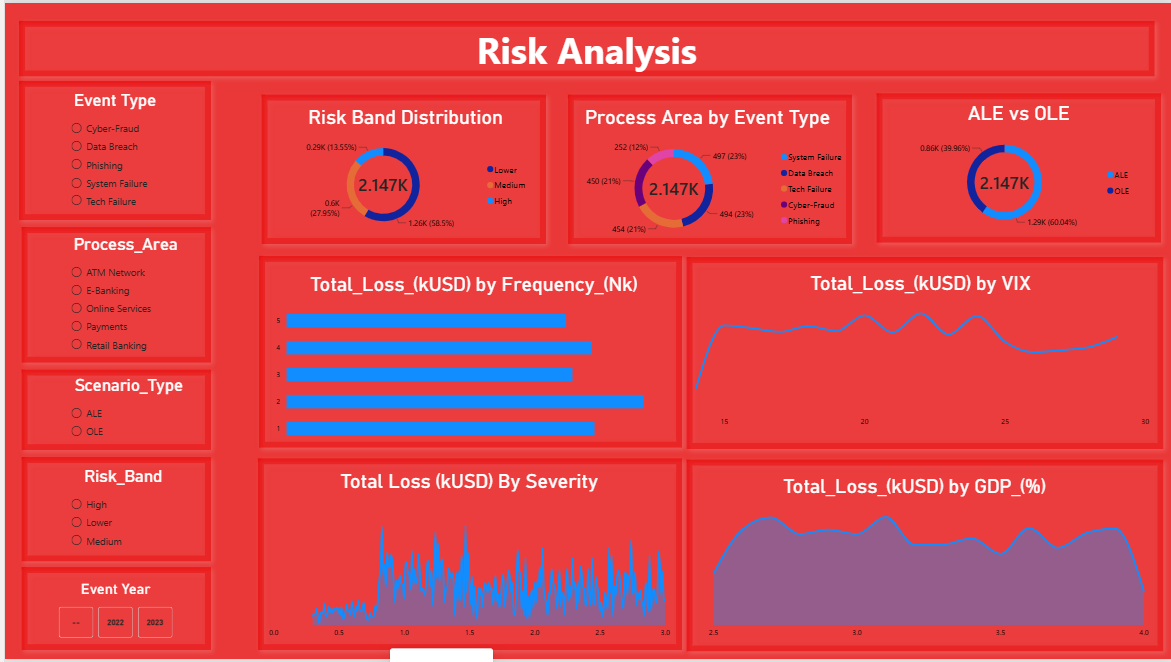

The dashboard page shown, as its layout file describes it:
{"tool":"powerbi","page":{"name":"Risk Analysis","canvas":[1920,1080],"ordinal":1},"visuals":[{"type":"shape","box":[913.9,138.7,494,271.7],"z":0},{"type":"shape","box":[10.3,16.5,1895.7,117.3],"z":1000},{"type":"shape","box":[14.4,356.5,337.6,249.1],"z":2000},{"type":"shape","box":[14.4,591.2,337.6,158.5],"z":3000},{"type":"shape","box":[14.4,916,337.6,162.6],"z":4000},{"type":"shape","box":[14.4,735.2,337.6,197.6],"z":5000},{"type":"shape","box":[10.3,115.7,341.7,255.2],"z":6000},{"type":"shape","box":[403.4,736.9,724.5,341.7],"z":7000},{"type":"shape","box":[1109.4,405.5,811,341.7],"z":8000},{"type":"areaChart","title":"Total Loss (kUSD) By Severity","fields":{"Category":["Operational_Risk_Events_clean.Severity_(Xi)"],"Y":["Sum(Operational_Risk_Events_clean.Loss_Amount_(kUSD))"]},"box":[432.2,767.8,664.8,282],"z":9000},{"type":"donutChart","title":"Process Area by Event Type","fields":{"Category":["Operational_Risk_Events_clean.Event_Type"],"Y":["CountNonNull(Operational_Risk_Events_clean.Process_Area)"]},"box":[926.2,169.6,461.1,220.2],"z":10000},{"type":"shape","box":[405.5,403.4,722.5,341.7],"z":11000},{"type":"barChart","fields":{"Category":["Operational_Risk_Events_clean.Frequency_(Nk)"],"Y":["Operational_Risk_Events_clean.Total_Loss_(kUSD)"]},"box":[446.7,444.6,650.4,282],"z":12000},{"type":"shape","box":[408.8,137.1,494,271.7],"z":13000},{"type":"donutChart","title":"Risk Band Distribution","fields":{"Category":["Operational_Risk_Events_clean.Risk_Band"],"Y":["CountNonNull(Operational_Risk_Events_clean.Risk_Band)"]},"box":[452,168,413.7,207.9],"z":14000},{"type":"shape","box":[1421.9,135.4,494,271.7],"z":15000},{"type":"donutChart","title":"ALE vs OLE","fields":{"Category":["Operational_Risk_Events_clean.Scenario_Type"],"Y":["CountNonNull(Operational_Risk_Events_clean.Scenario_Type)"]},"box":[1477.5,162.2,382.8,212],"z":16000},{"type":"lineChart","fields":{"Category":["Operational_Risk_Events_clean.VIX"],"Y":["Operational_Risk_Events_clean.Total_Loss_(kUSD)"]},"box":[1128,442.5,759.5,259.3],"z":17000},{"type":"shape","box":[1109.4,738.9,811,341.7],"z":18000},{"type":"stackedAreaChart","fields":{"Category":["Operational_Risk_Events_clean.GDP_(%)"],"Y":["Operational_Risk_Events_clean.Total_Loss_(kUSD)"]},"box":[1109.4,776,776,273.8],"z":19000},{"type":"listSlicer","title":"Event Type","fields":{"Values":["Operational_Risk_Events_clean.Event_Type"]},"box":[92.6,130.1,177,226.4],"z":20000},{"type":"listSlicer","fields":{"Values":["Operational_Risk_Events_clean.Process_Area"]},"box":[92.6,366.8,212,238.8],"z":21000},{"type":"listSlicer","fields":{"Values":["Operational_Risk_Events_clean.Scenario_Type"]},"box":[92.6,599,222.3,150.3],"z":22000},{"type":"listSlicer","fields":{"Values":["Operational_Risk_Events_clean.Risk_Band"]},"box":[92.6,749.2,203.8,166.7],"z":23000},{"type":"advancedSlicerVisual","title":"Event Year","fields":{"Values":["Operational_Risk_Events_clean.Event_Year"]},"box":[88.5,950.9,187.3,94.7],"z":24000}]}

Visuals, with their boxes in screenshot pixels (x1, y1, x2, y2), scaled from the page's 1920x1080 canvas onto the 1171x662 screenshot:
shape: <box>557,85,859,252</box>
shape: <box>6,10,1162,82</box>
shape: <box>9,219,215,371</box>
shape: <box>9,362,215,460</box>
shape: <box>9,561,215,661</box>
shape: <box>9,451,215,572</box>
shape: <box>6,71,215,227</box>
shape: <box>246,452,688,661</box>
shape: <box>677,249,1170,458</box>
"Total Loss (kUSD) By Severity" areaChart: <box>264,471,669,643</box>
"Process Area by Event Type" donutChart: <box>565,104,846,239</box>
shape: <box>247,247,688,457</box>
barChart - Operational_Risk_Events_clean.Frequency_(Nk) x Operational_Risk_Events_clean.Total_Loss_(kUSD): <box>272,273,669,445</box>
shape: <box>249,84,551,251</box>
"Risk Band Distribution" donutChart: <box>276,103,528,230</box>
shape: <box>867,83,1168,250</box>
"ALE vs OLE" donutChart: <box>901,99,1135,229</box>
lineChart - Operational_Risk_Events_clean.VIX x Operational_Risk_Events_clean.Total_Loss_(kUSD): <box>688,271,1151,430</box>
shape: <box>677,453,1170,661</box>
stackedAreaChart - Operational_Risk_Events_clean.GDP_(%) x Operational_Risk_Events_clean.Total_Loss_(kUSD): <box>677,476,1150,643</box>
"Event Type" listSlicer: <box>56,80,164,219</box>
listSlicer - Operational_Risk_Events_clean.Process_Area: <box>56,225,186,371</box>
listSlicer - Operational_Risk_Events_clean.Scenario_Type: <box>56,367,192,459</box>
listSlicer - Operational_Risk_Events_clean.Risk_Band: <box>56,459,181,561</box>
"Event Year" advancedSlicerVisual: <box>54,583,168,641</box>
